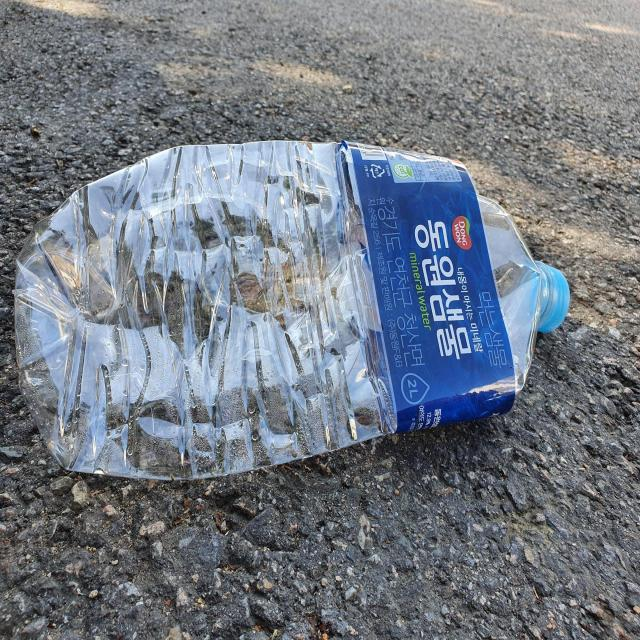plastic: (14, 140, 571, 479)
